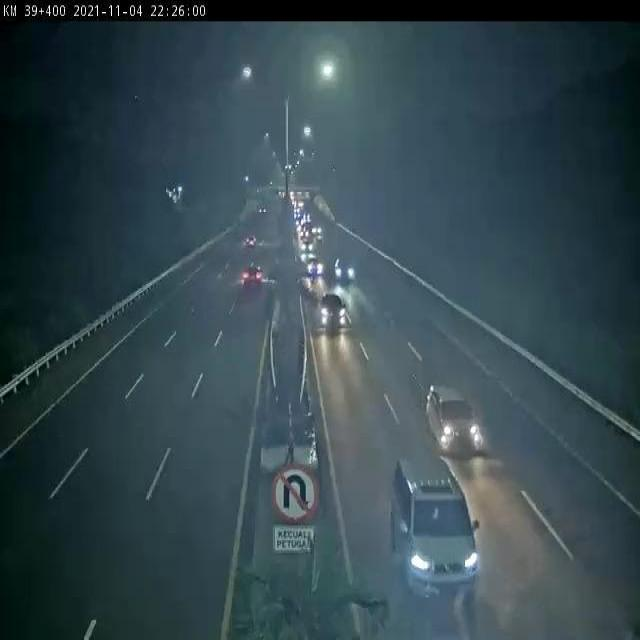car: (388, 449, 489, 599), (425, 372, 487, 452), (319, 291, 348, 336), (336, 254, 357, 286), (246, 260, 263, 291), (309, 258, 323, 278)
